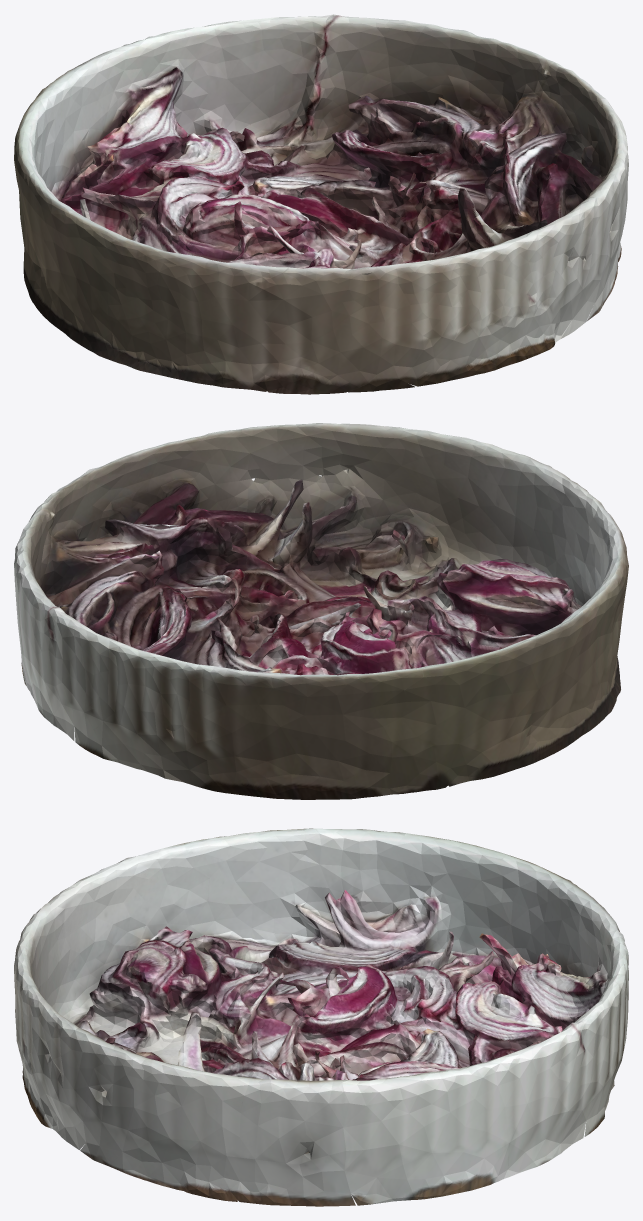
Rendered from placeholder.glb.
3 renders of one model, top to bottom at view 1: azimuth 30°, elevation 25°; view 2: azimuth 150°, elevation 25°; view 3: azimuth 270°, elevation 25°, orthographic.
Size of the model in its own units: 0.2025 by 0.0458 by 0.2023.
1 material, 1 textured.
